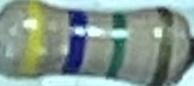Blue: (60, 10, 92, 74)
Green: (103, 12, 131, 80)
Side-Gold: (149, 6, 176, 86)
Yellow: (16, 1, 48, 76)
